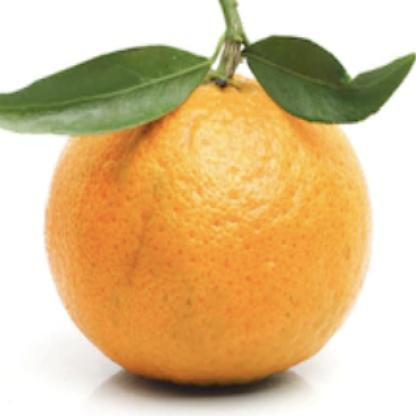fresh: (41, 46, 372, 382)
